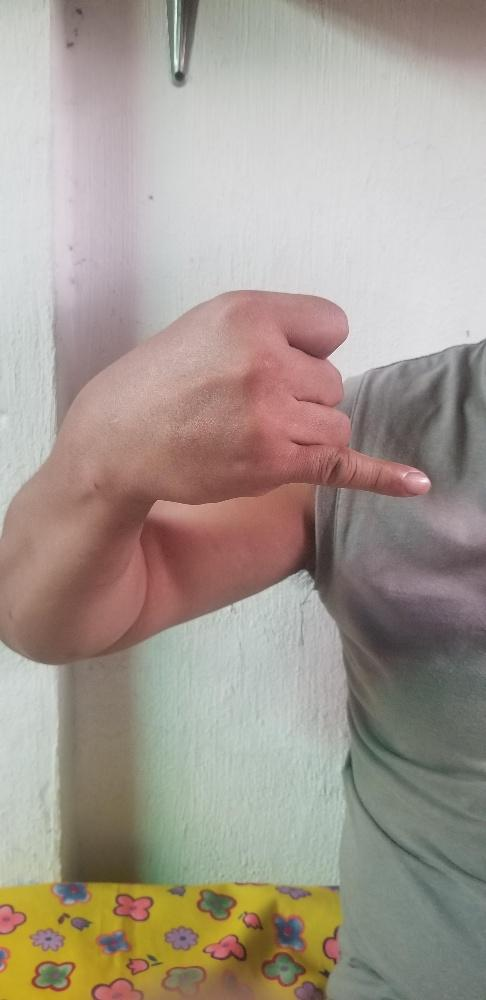j: (113, 287, 433, 502)
